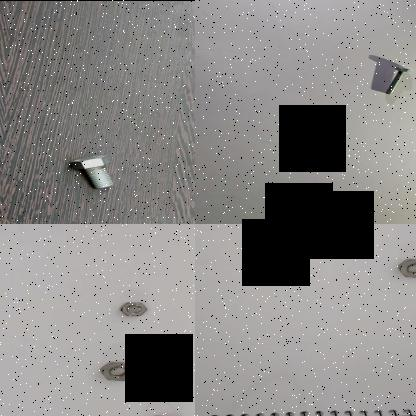Bolts: (69, 147, 121, 191), (380, 63, 414, 99)
NUTS: (86, 354, 147, 394), (110, 297, 162, 327), (393, 254, 416, 282)
